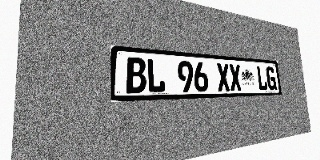6: (193, 61, 209, 92)
9: (177, 60, 194, 92)
B: (126, 57, 147, 93)
G: (266, 66, 277, 90)
L: (146, 58, 165, 93), (256, 66, 268, 90)
X: (216, 63, 230, 91), (229, 64, 242, 91)
